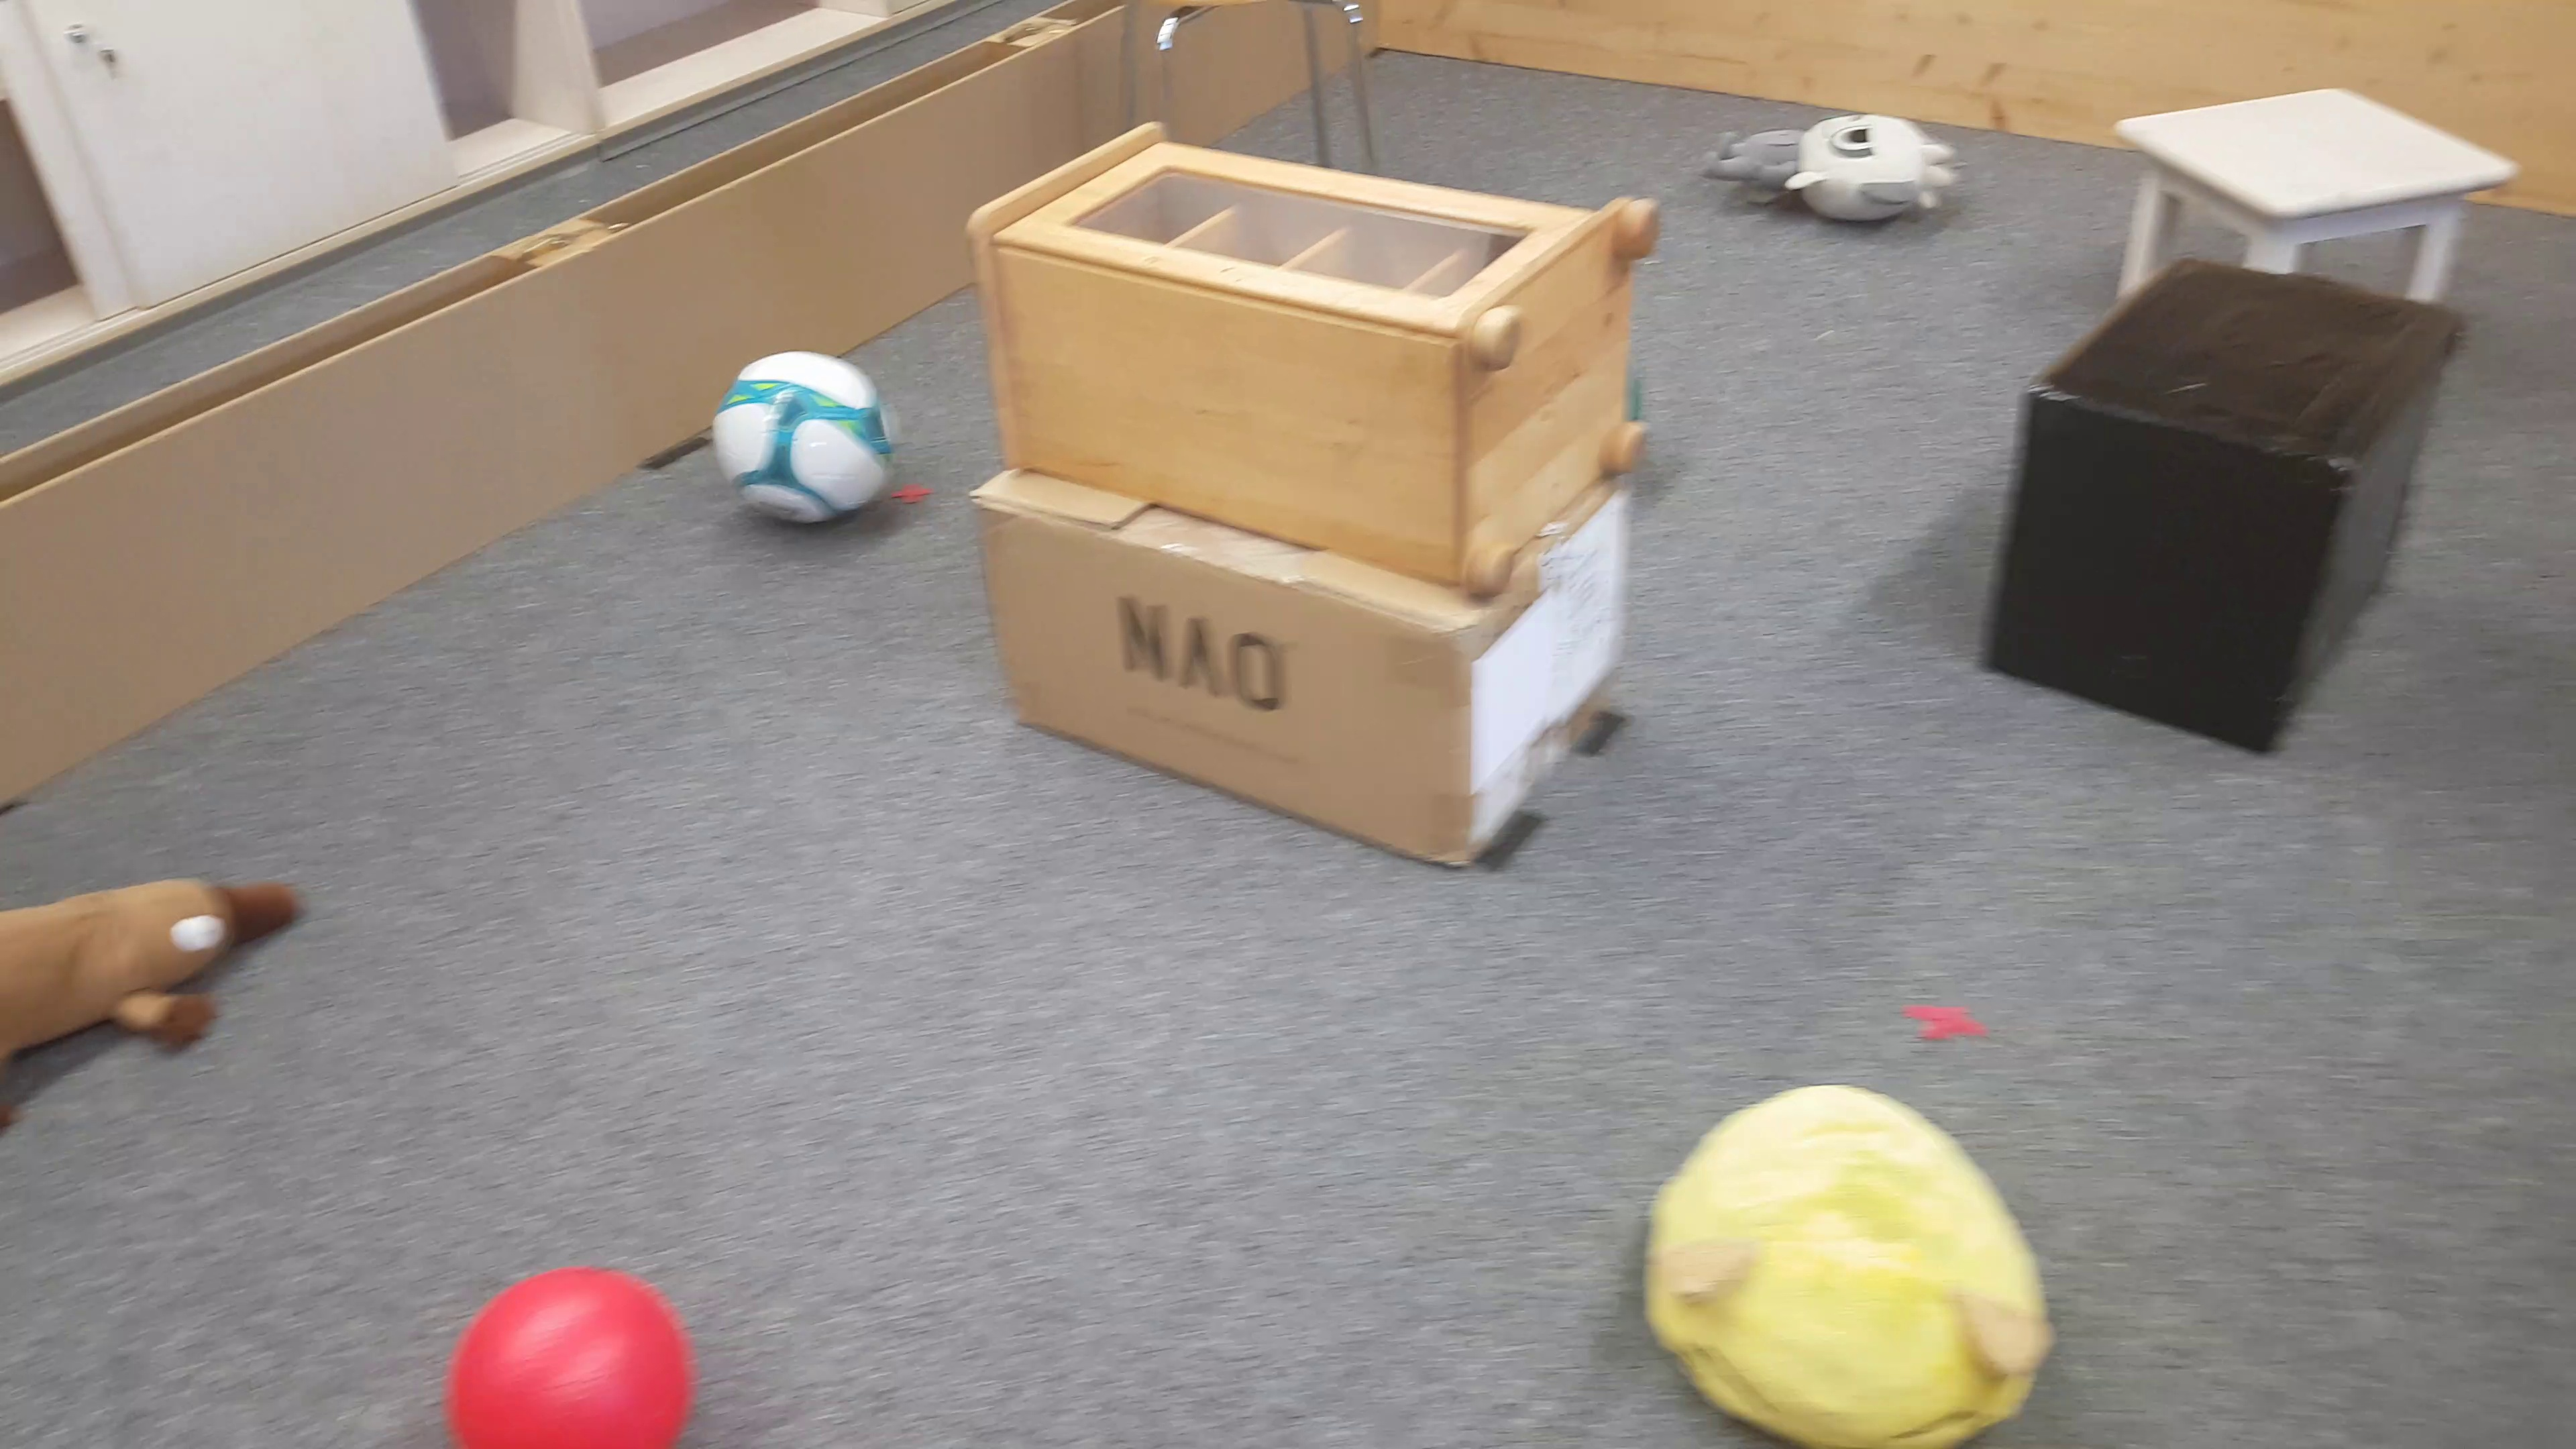grasp: (1649, 1077, 2054, 1449), (2, 872, 303, 1088), (1702, 103, 1959, 235)
kick: (448, 1269, 692, 1449), (722, 347, 895, 538)
push: (1982, 262, 2468, 755)
